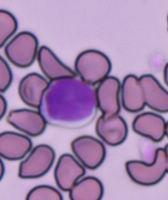L: (40, 76, 97, 127)
